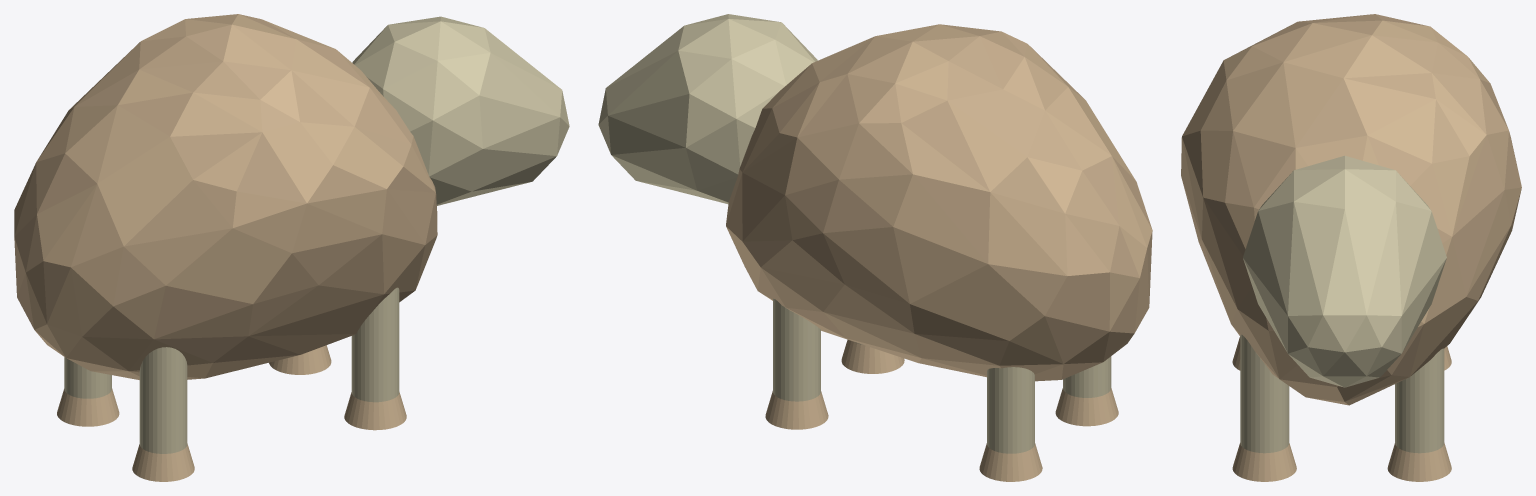
The model's file is sheep_Teerla.fbx.
The picture shows the model from 3 angles, left to right: view 1: azimuth 30°, elevation 25°; view 2: azimuth 150°, elevation 25°; view 3: azimuth 270°, elevation 25°; orthographic projection. The views are drawn at different scales.
Visible parts, largest first — view 1: sheep_Teerla; view 2: sheep_Teerla; view 3: sheep_Teerla.
Part boxes in pixels (<box>): sheep_Teerla: <box>14,14,569,481</box>; sheep_Teerla: <box>598,14,1152,481</box>; sheep_Teerla: <box>1181,14,1521,481</box>.
Size of the model in its own units: 130 by 87.93 by 70.17.
